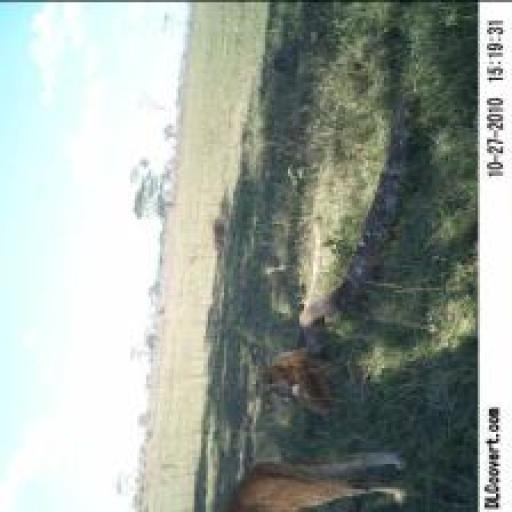lion: (212, 443, 431, 511), (256, 336, 354, 419)
